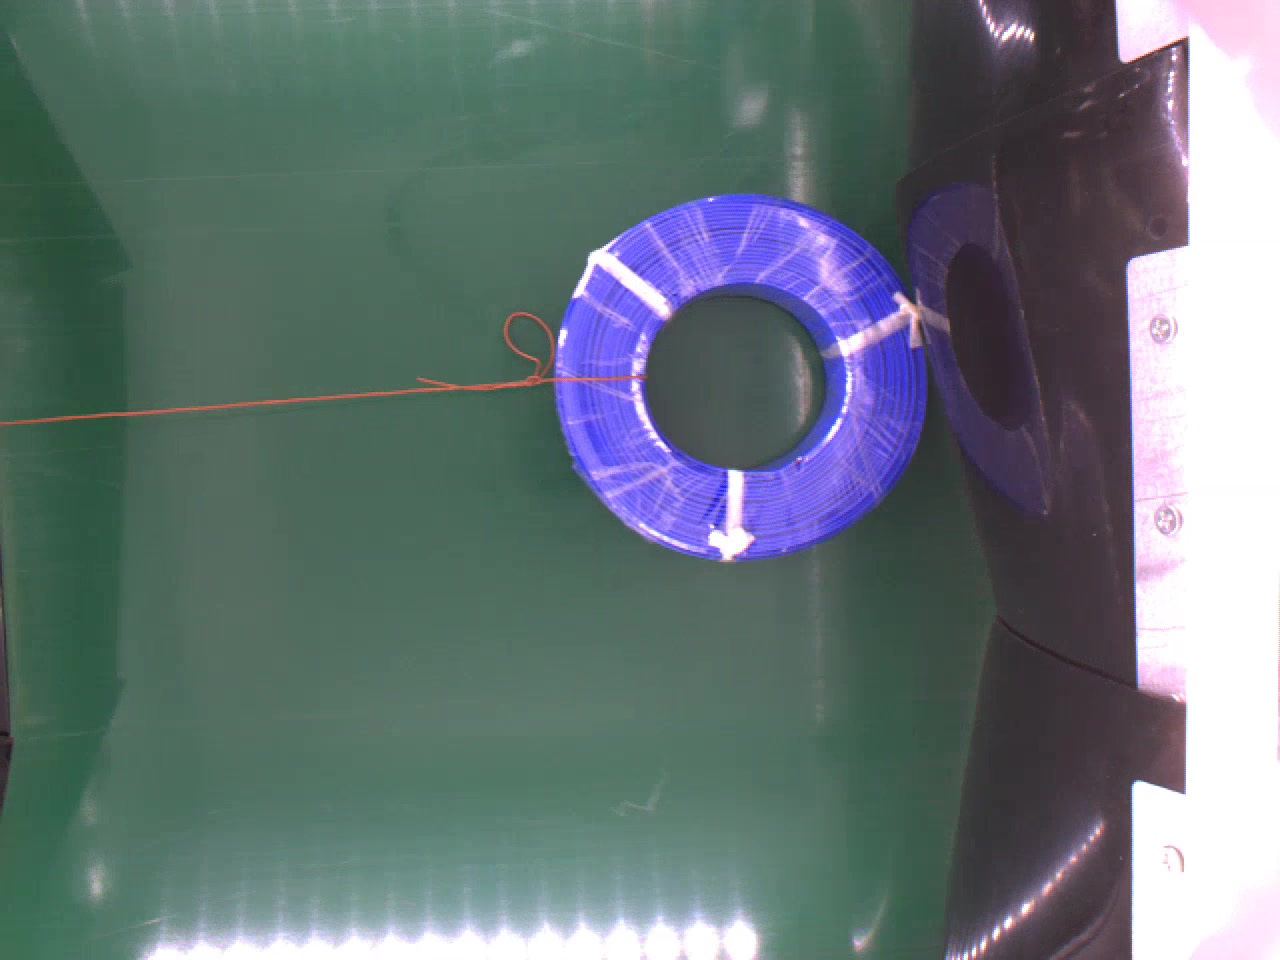blue: (553, 195, 933, 566)
